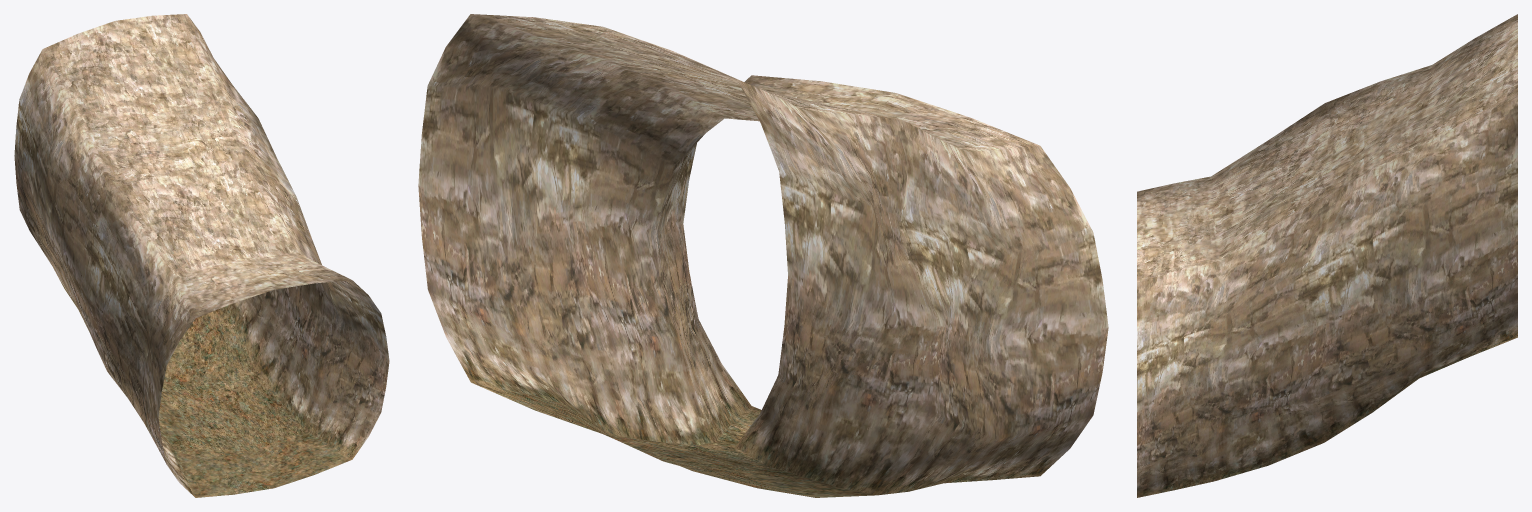
Rendered from thm_all_cave_s03_mirror_r15_mesh_r15.fbx.
The picture shows the model from 3 angles, left to right: view 1: azimuth 30°, elevation 25°; view 2: azimuth 150°, elevation 25°; view 3: azimuth 270°, elevation 25°; orthographic projection. The views are drawn at different scales.
Parts seen in each view (by area): view 1: mesh_node; view 2: mesh_node; view 3: mesh_node.
Boxes of the visible parts, bbox=[...] form: mesh_node: bbox=[14, 14, 389, 497]; mesh_node: bbox=[418, 14, 1108, 497]; mesh_node: bbox=[1137, 14, 1517, 497].
Bounding box in the file's own units: 10.42 × 15.14 × 12.44.
